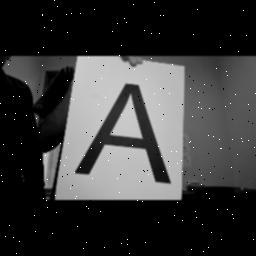a: (70, 78, 178, 192)
